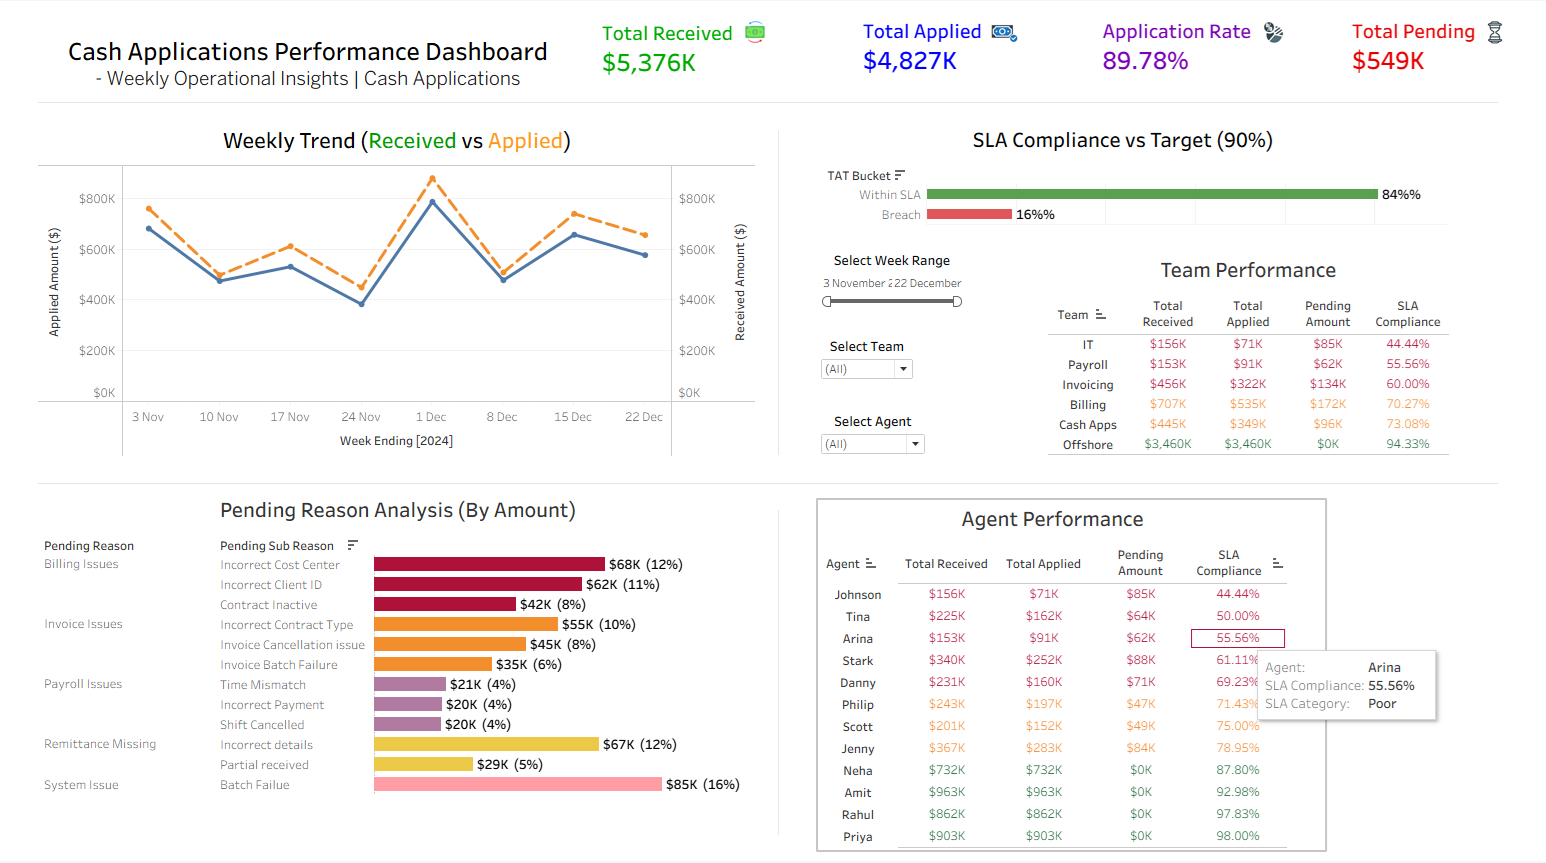

The page's visual inventory and layout, read from the dashboard file:
{"tool":"tableau","page":{"name":"Dashboard 1","canvas":[1000,1000],"units":"permille","ordinal":0},"visuals":[{"type":"image","param":"Image/Image- Total Applied.jpeg","box":[638.1,15.1,19.4,46.5]},{"type":"image","param":"Image/Image-Total Received.jpeg","box":[478.7,16.3,19.4,34.9]},{"type":"text","box":[25.8,18.6,348.4,104.7]},{"type":"worksheet","title":"Total Received","mark":"Text","box":[387.1,18.6,135.5,104.7]},{"type":"worksheet","title":"Total Applied","mark":"Automatic","box":[555.5,18.6,135.5,104.7]},{"type":"worksheet","title":"Application Rate","mark":"Automatic","box":[709.7,18.6,135.5,104.7]},{"type":"image","param":"Image/Image- Application rate.jpeg","box":[812.9,18.6,19.4,34.9]},{"type":"image","param":"Image/Image-Total Pending.jpeg","box":[958.1,20.9,19.4,29.1]},{"type":"blank","box":[25.8,117.4,941.9,1.2]},{"type":"worksheet","title":"Weekly Trend","mark":"Line","rows":["Calculation_1283464877477888","Calculation_1283464880144386"],"cols":["Week_Ending (Dim_Date.csv)"],"box":[25.8,139.5,463.2,390.7]},{"type":"worksheet","title":"SLA Compliance ","mark":"Automatic","rows":["TAT_Bucket"],"cols":["Payment_ID"],"box":[516.1,139.5,460,144.2]},{"type":"blank","box":[503.2,150,0.7,377.9]},{"type":"filter","title":"Weekly Trend","param":"[federated.0hyamtn0j61uck1a8xni10q1xgcz].[twk:Week_Ending (Dim_Date.csv):qk]","box":[529,290.7,95.5,97.7]},{"type":"worksheet","title":"Team Performance","mark":"Text","rows":["Team"],"box":[677.4,290.7,271,261.6]},{"type":"filter","title":"Weekly Trend","param":"[federated.0hyamtn0j61uck1a8xni10q1xgcz].[none:Team:nk]","box":[529,390.7,63.2,64]},{"type":"filter","title":"Team Performance","param":"[federated.0hyamtn0j61uck1a8xni10q1xgcz].[none:Agent:nk]","box":[529,477.9,71,80.2]},{"type":"blank","box":[25.8,560.5,941.9,1.2]},{"type":"worksheet","title":"Pending Analysis","mark":"Bar","rows":["Pending_Reason","Pending_Sub Reason"],"cols":["Amount"],"box":[25.8,569.8,464.5,407]},{"type":"worksheet","title":"Agent Performance","mark":"Text","rows":["Agent"],"box":[529,580.2,327.1,407]},{"type":"blank","box":[503.2,591.9,0.7,377.9]}]}

Visuals, with their boxes on the dashboard's canvas, which has no fixed pixel size, in thousandths of its width and height (x1, y1, x2, y2). These are canvas units, not pixel positions in the 1546x863 screenshot, which may show the page scaled, cropped or inside an application window:
image: [638,15,658,62]
image: [479,16,498,51]
text: [26,19,374,123]
"Total Received" worksheet (Text marks): [387,19,523,123]
"Total Applied" worksheet: [556,19,691,123]
"Application Rate" worksheet: [710,19,845,123]
image: [813,19,832,54]
image: [958,21,978,50]
blank: [26,117,968,119]
"Weekly Trend" worksheet (Line marks): [26,140,489,530]
"SLA Compliance " worksheet: [516,140,976,284]
blank: [503,150,504,528]
"Weekly Trend" filter: [529,291,624,388]
"Team Performance" worksheet (Text marks): [677,291,948,552]
"Weekly Trend" filter: [529,391,592,455]
"Team Performance" filter: [529,478,600,558]
blank: [26,560,968,562]
"Pending Analysis" worksheet (Bar marks): [26,570,490,977]
"Agent Performance" worksheet (Text marks): [529,580,856,987]
blank: [503,592,504,970]
